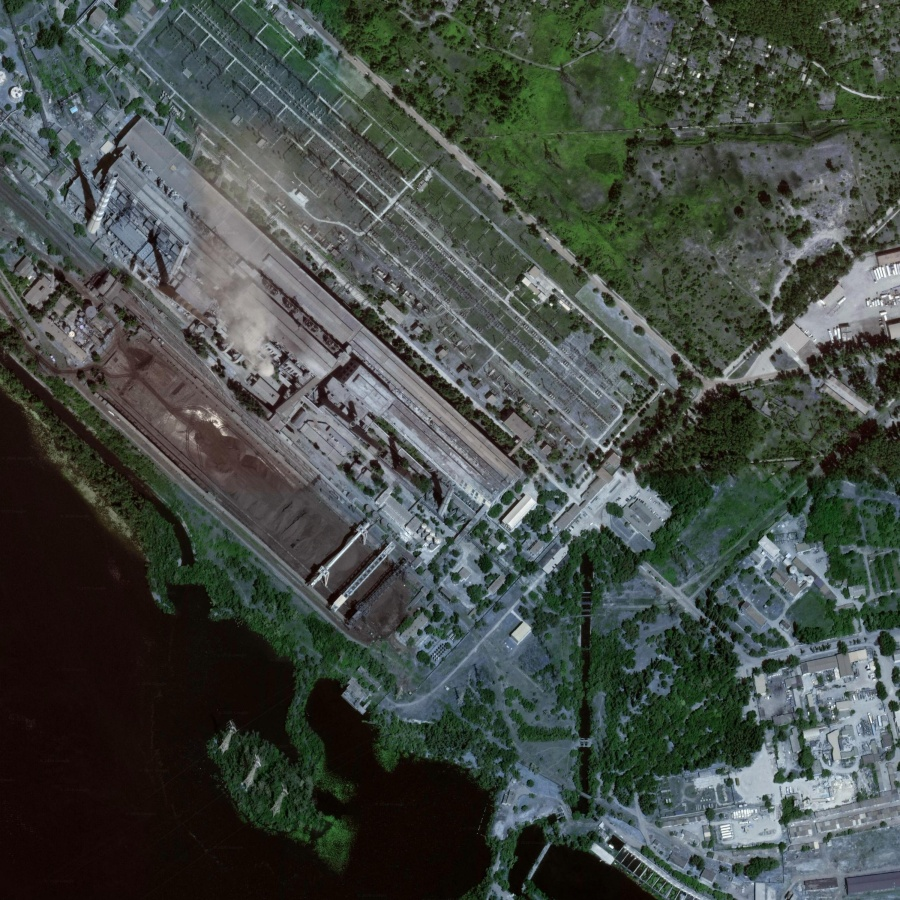PowerPlant: (43, 143, 476, 642)
